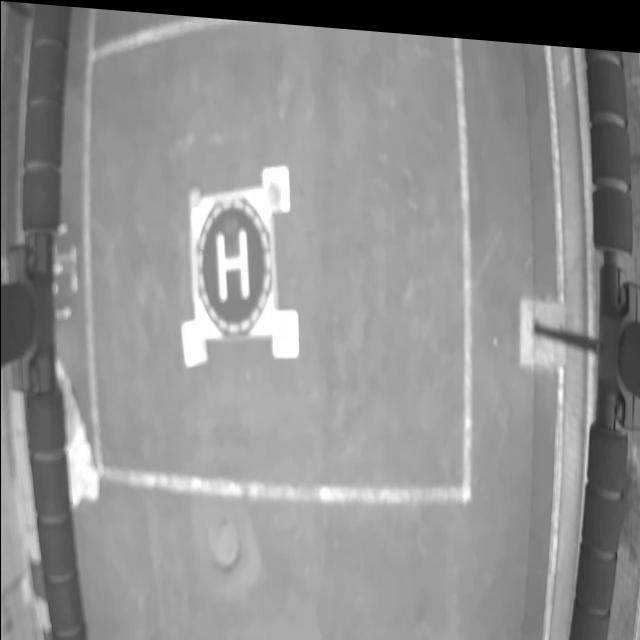Helipad: (215, 224, 249, 296)
